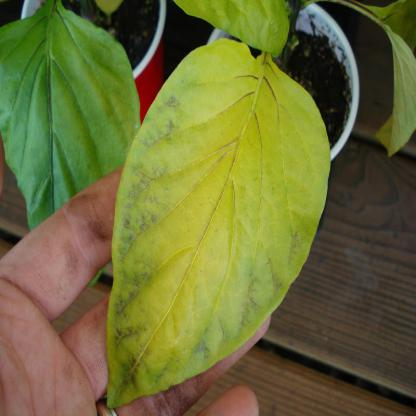bell pepper leaf: (100, 34, 334, 409)
